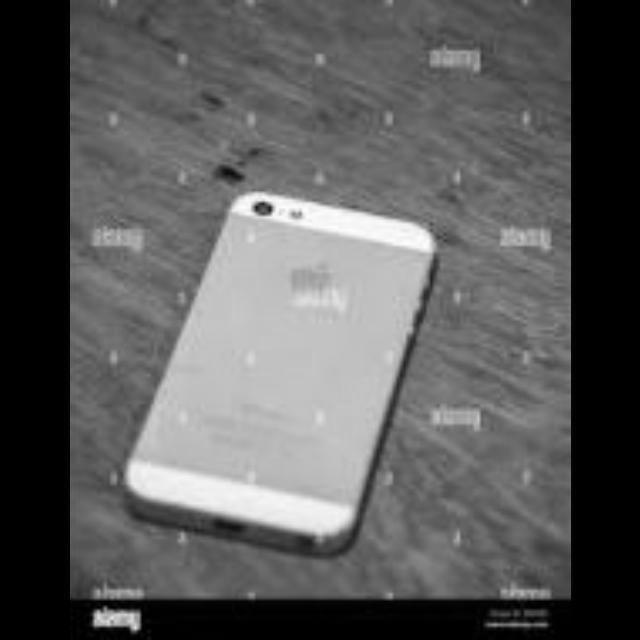fake: (120, 184, 443, 580)
